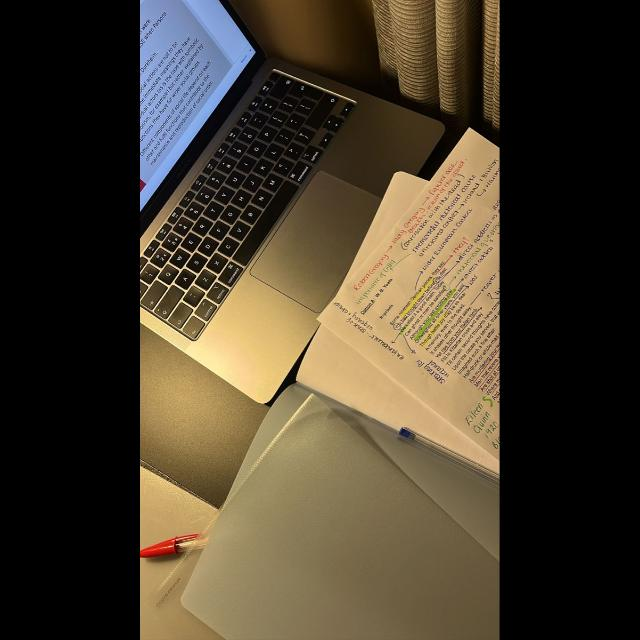laptop: (140, 0, 443, 403)
